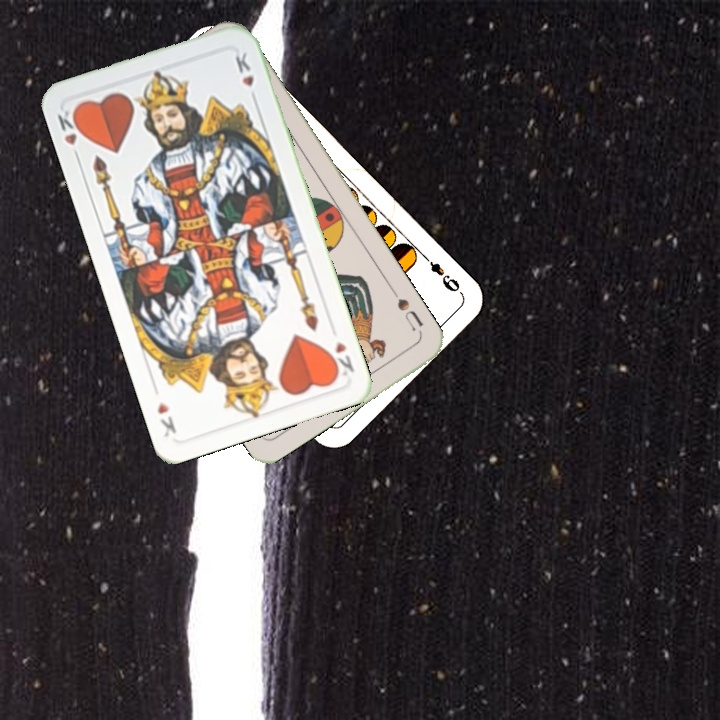E9: (418, 250, 464, 296)
HK: (53, 104, 87, 164), (324, 337, 357, 381)
SU: (387, 285, 426, 338)
